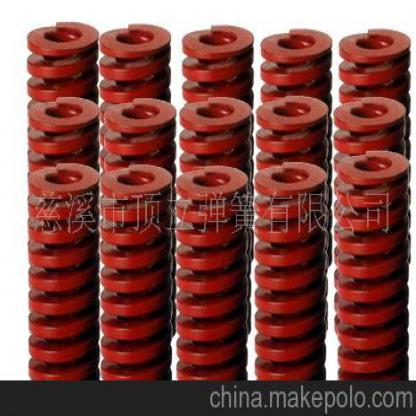FOD: (332, 147, 411, 380), (174, 162, 251, 379), (99, 164, 175, 381), (25, 161, 100, 380)
